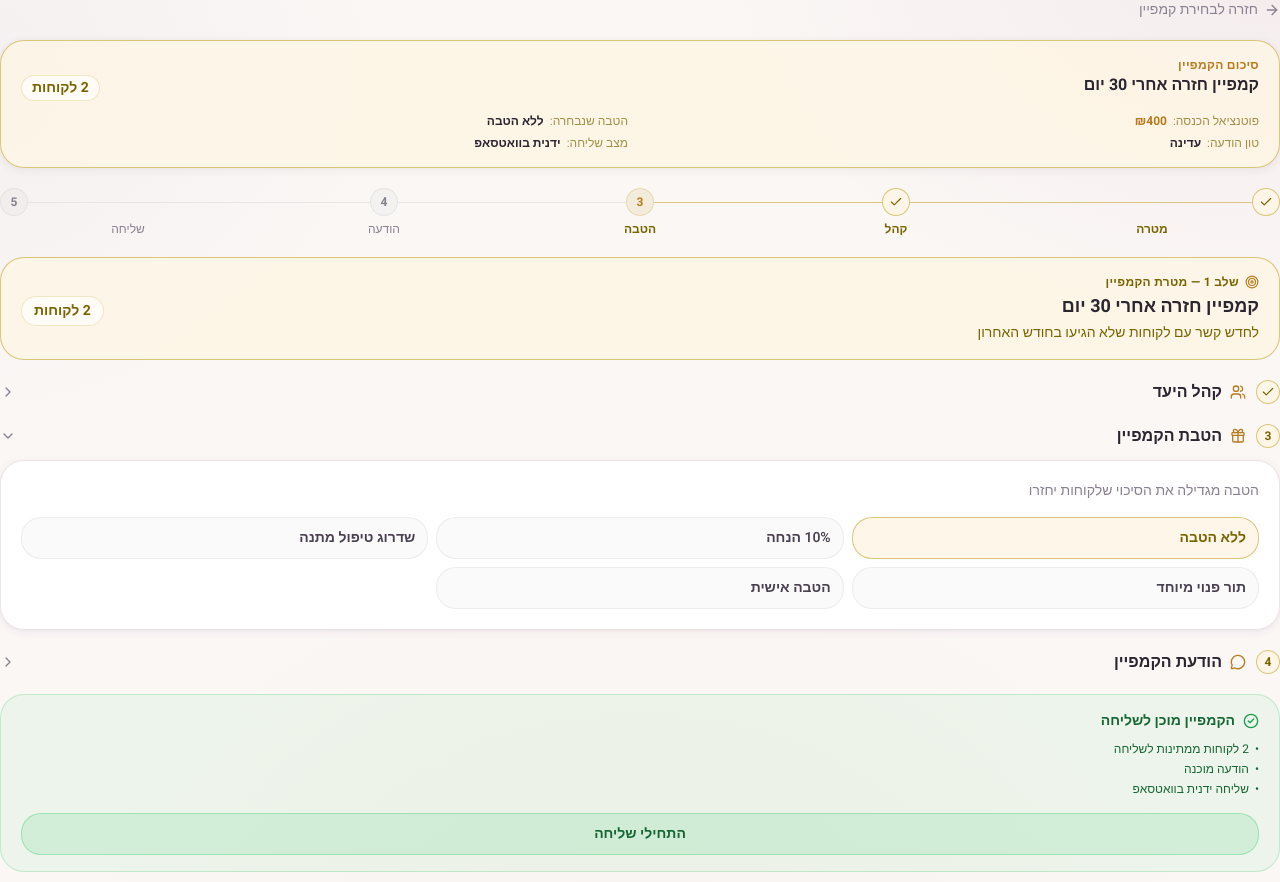
CampaignView — defaultCampaignType deep link › selecting an offer reflects it in the summary card and opens the message step
Note: The offer step is open by default in the deep-linked builder.
Click the button "10% הנחה".
click(785, 537)  # box [436,516,844,558]
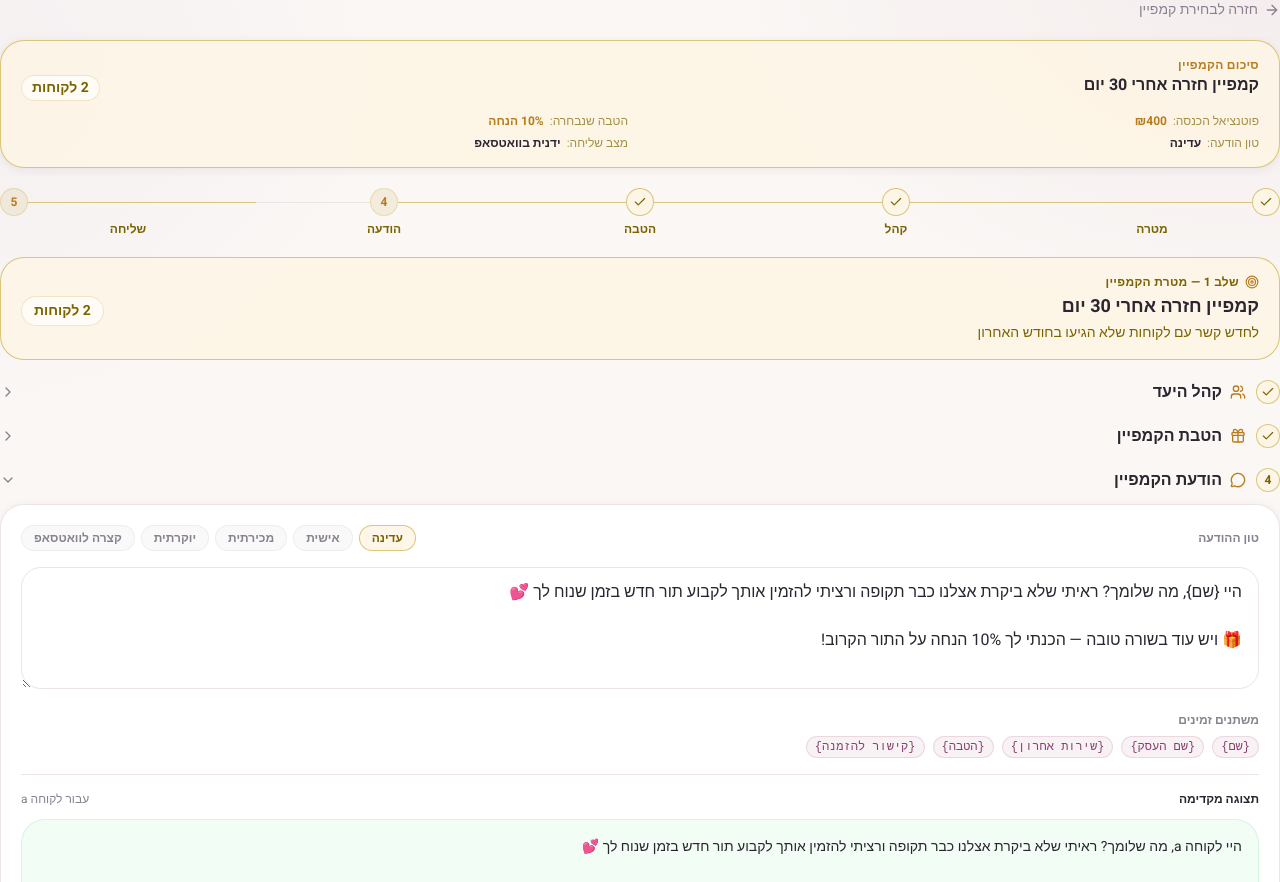
Check: the text "הטבה שנבחרה:" is shown, box [550,113,628,129]
Check: the text "10% הנחה" is shown, box [488,113,544,129]
